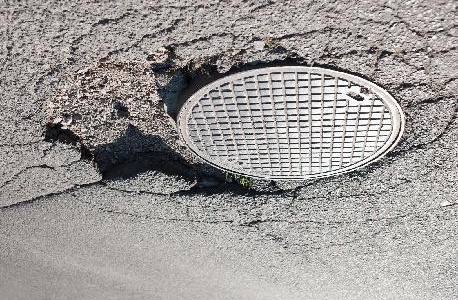pothole: (37, 49, 267, 205)
